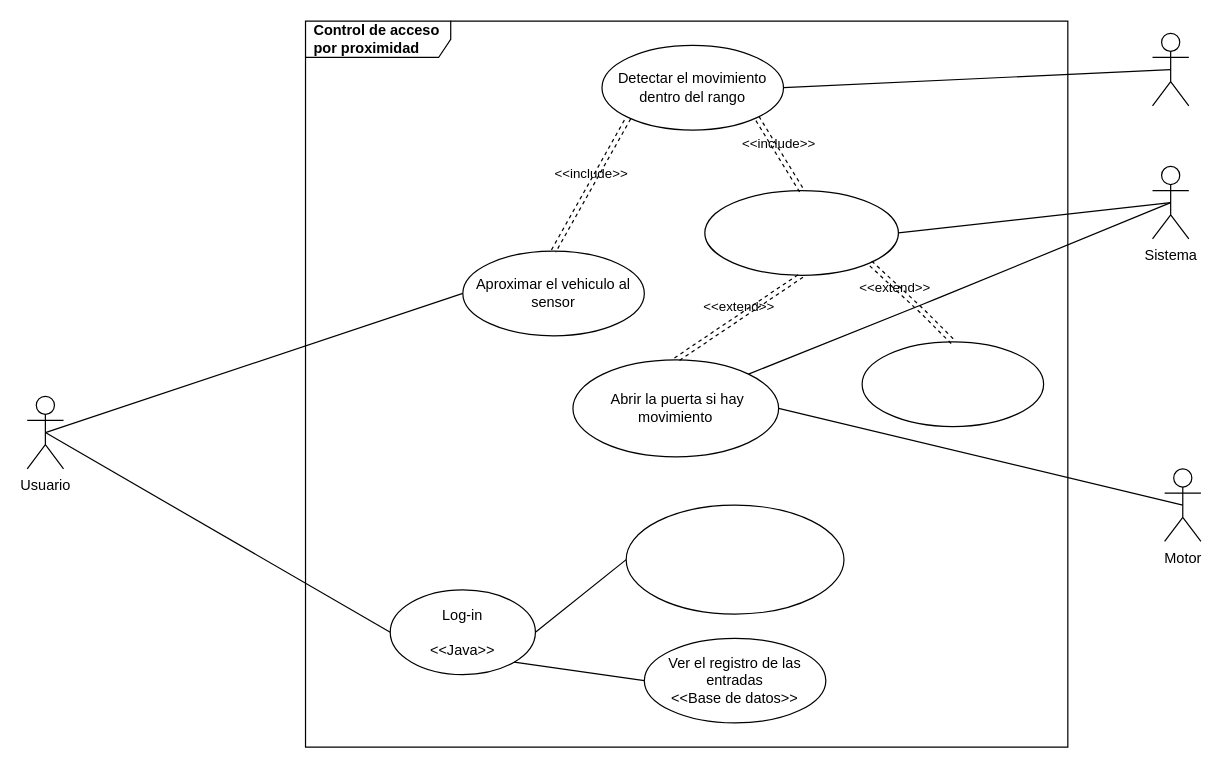
Some shapes in this 1222 by 768 pixel diagram are drawn without their labels. Each missing label, with the box of its shape:
Apagar y encender el sensor <<Java>>: (625, 504, 844, 614)
Enviar una señal al sistema correcta o incorrecta: (704, 189, 898, 275)
Mantener la puerta cerrada si no hay movimiento: (861, 341, 1044, 427)
Sensor: (1151, 32, 1189, 106)
